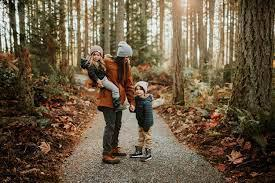child: (128, 79, 155, 160), (83, 43, 118, 103)
